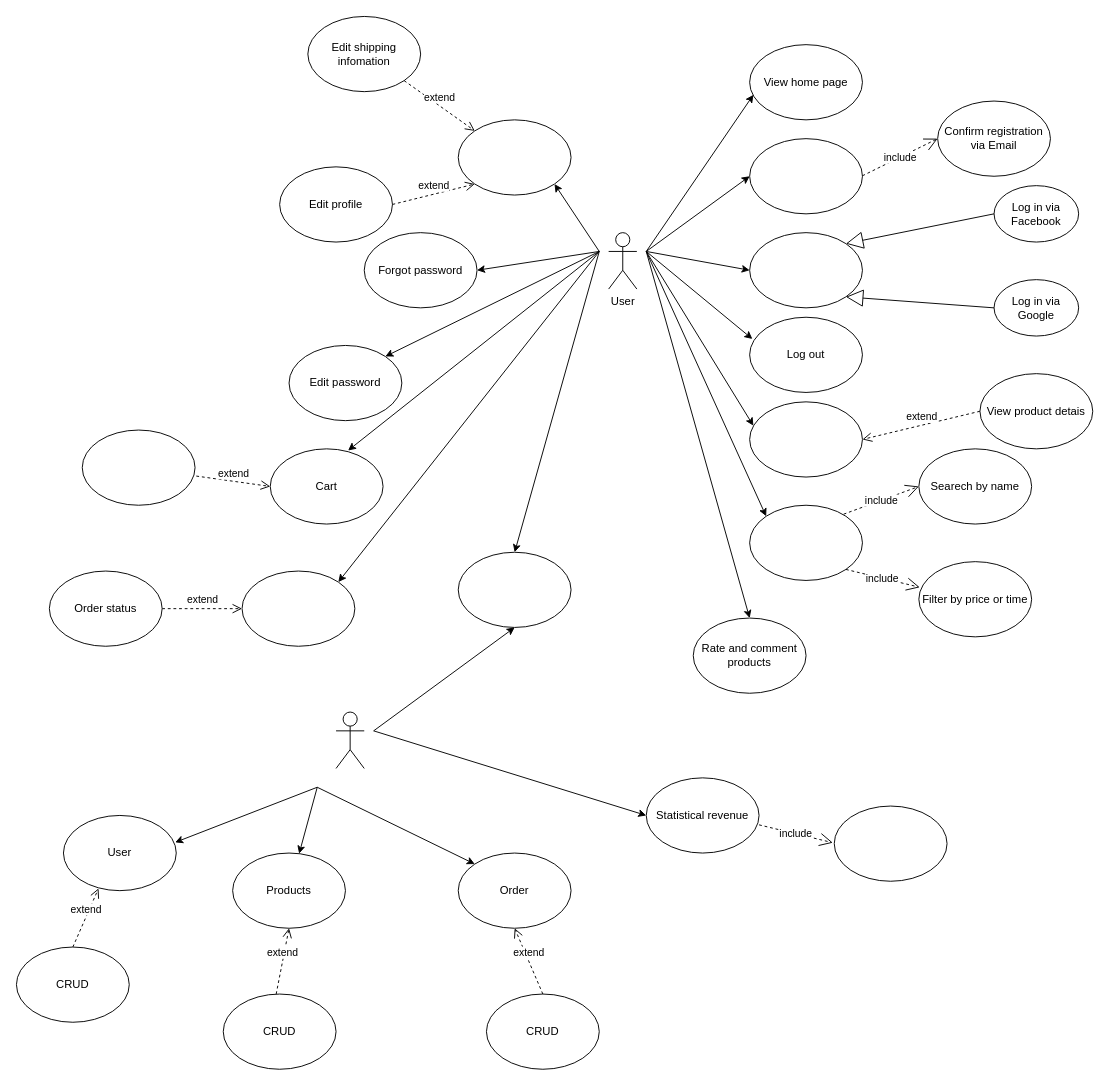
The diagram is 1109 pixels wide and 1086 high, and some of its shapes have lost their labels. Here are the shapes that lost their labels. From the top down, the box of each, then its label:
(457, 119, 571, 195): View profile
(749, 138, 862, 214): Sign up
(749, 232, 862, 308): Log in
(749, 401, 862, 477): View products
(81, 429, 195, 505): Pay
(749, 504, 862, 580): Search
(241, 570, 355, 646): Order history
(457, 551, 571, 627): Chat
(335, 711, 364, 768): Admin
(833, 805, 947, 881): Statistics by product, supplier,..
